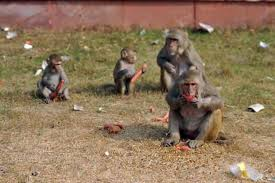monkey: (162, 80, 245, 139), (23, 47, 77, 104), (155, 22, 202, 78), (113, 43, 144, 101)
